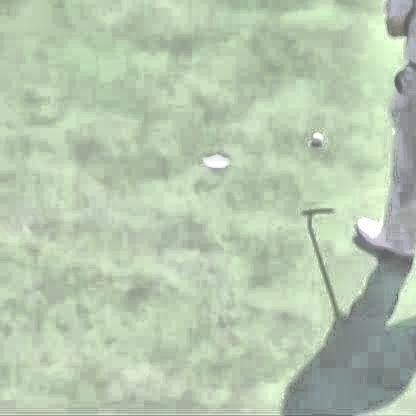golfball: (307, 133, 320, 143)
